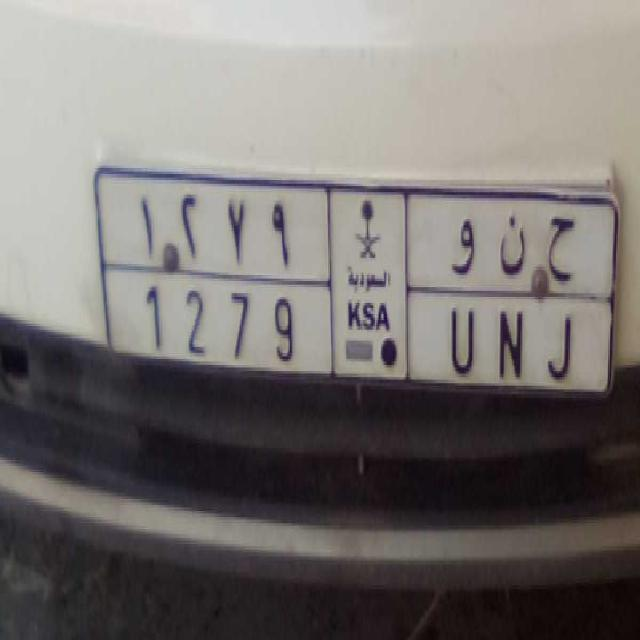license_plate: (129, 276, 582, 399)
